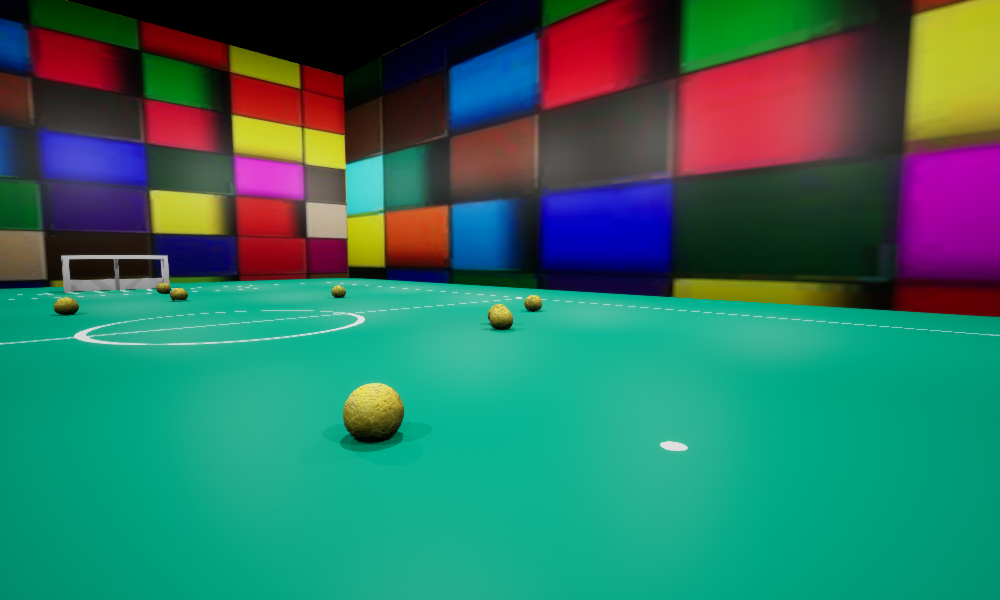b: (343, 383, 403, 441), (490, 307, 512, 329), (53, 297, 78, 313), (488, 304, 508, 320), (524, 295, 541, 310), (170, 288, 187, 300), (331, 285, 345, 297), (156, 283, 170, 293)
g: (61, 255, 169, 292)
